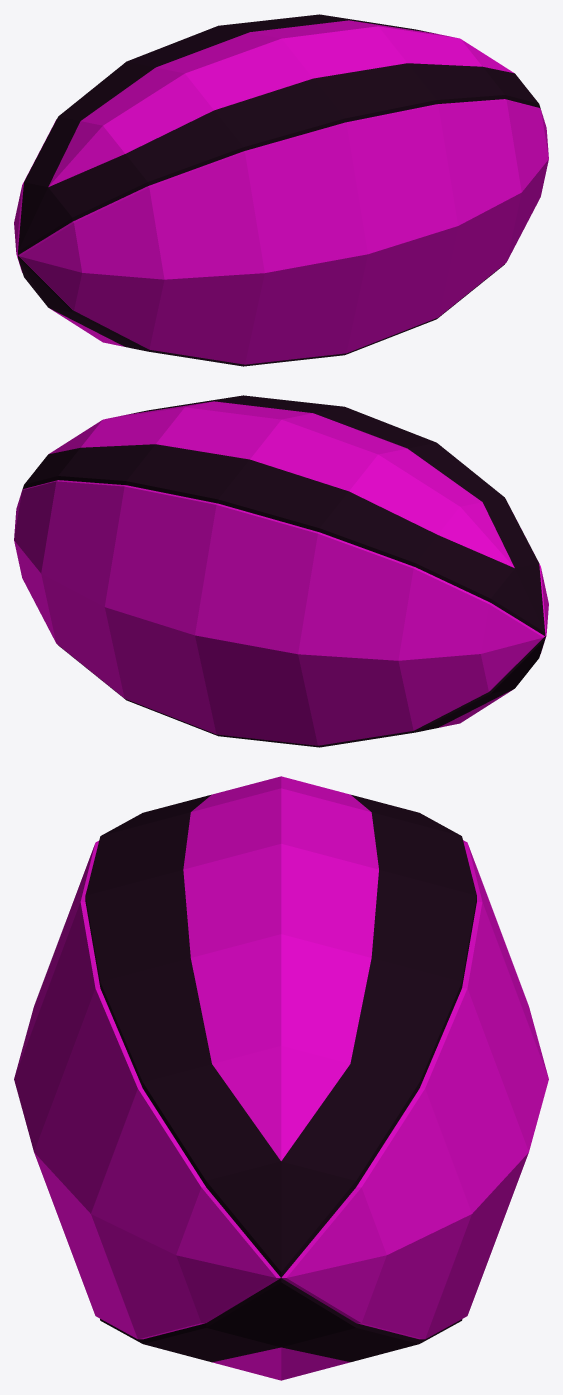
Rendered from RugbyBall_01.fbx.
3 renders of one model, top to bottom at view 1: azimuth 30°, elevation 25°; view 2: azimuth 150°, elevation 25°; view 3: azimuth 270°, elevation 25°, orthographic. The views are drawn at different scales.
Parts seen in each view (by area): view 1: RugbyBall_01; view 2: RugbyBall_01; view 3: RugbyBall_01.
Part boxes in pixels (x1=…): RugbyBall_01: x1=14, y1=14, x2=548, y2=366; RugbyBall_01: x1=14, y1=395, x2=548, y2=747; RugbyBall_01: x1=14, y1=776, x2=548, y2=1380.
Bounding box in the file's own units: 8.62 × 4.75 × 4.9.
